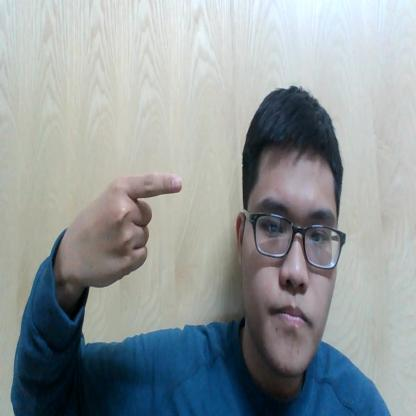left: (76, 166, 186, 292)
